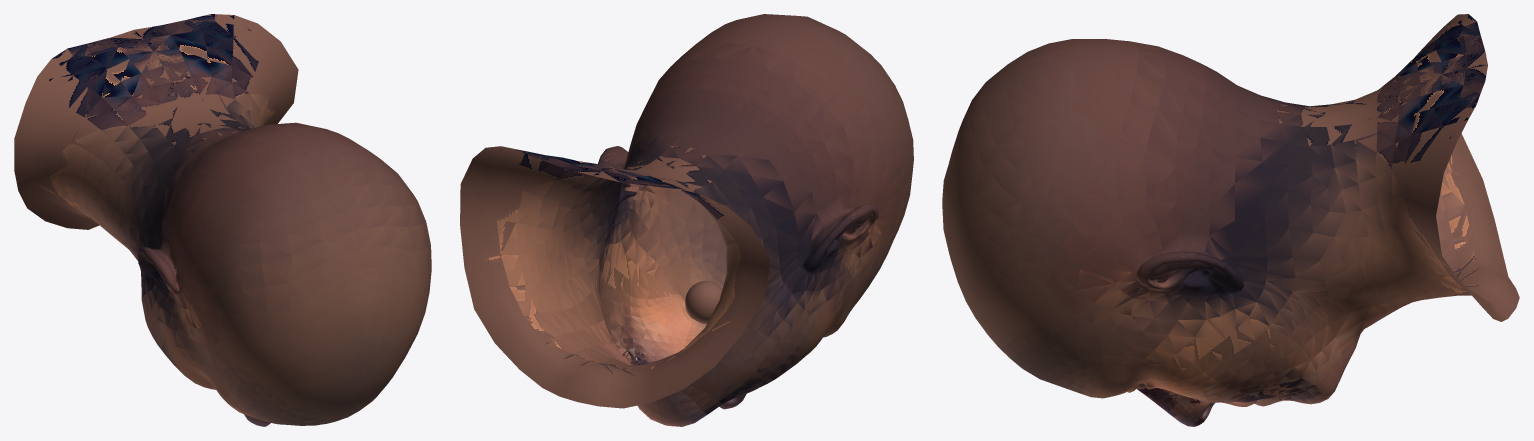
The model's file is atlas-flame.glb.
3 views of the same model, side by side, from view 1: azimuth 30°, elevation 25°; view 2: azimuth 150°, elevation 25°; view 3: azimuth 270°, elevation 25° (orthographic). The views are drawn at different scales.
Visible parts, largest first — view 1: FLAME-generic; view 2: FLAME-generic; view 3: FLAME-generic.
Boxes of the visible parts, bbox=[...] form: FLAME-generic: bbox=[14, 14, 431, 426]; FLAME-generic: bbox=[460, 14, 913, 426]; FLAME-generic: bbox=[942, 14, 1519, 426].
Size of the model in its own units: 0.2152 by 0.2311 by 0.3215.
Materials: 1 (1 with a texture image).
